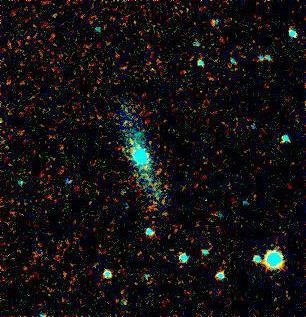star: (114, 111, 144, 141)
